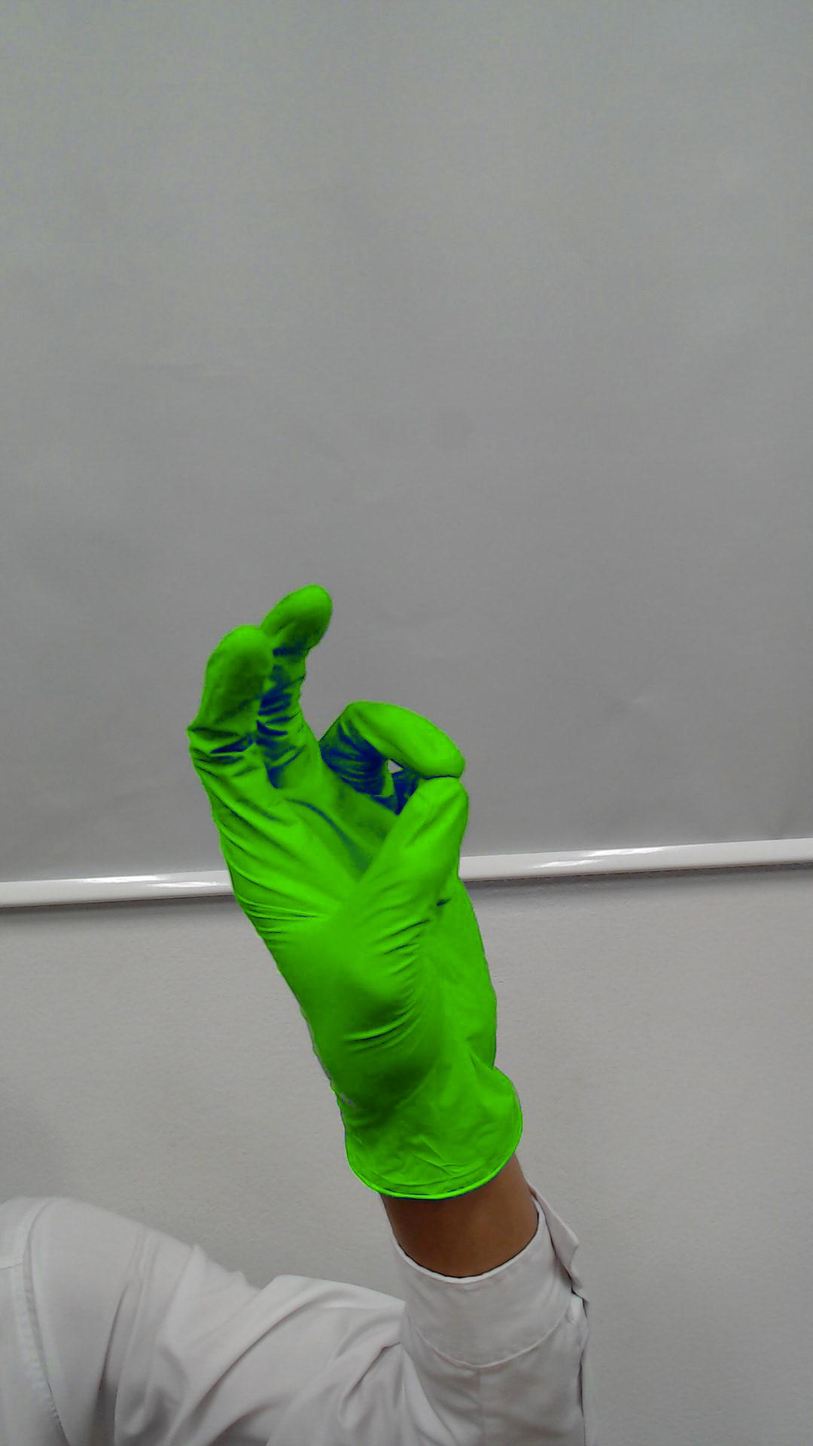gloves: (182, 569, 513, 1073)
